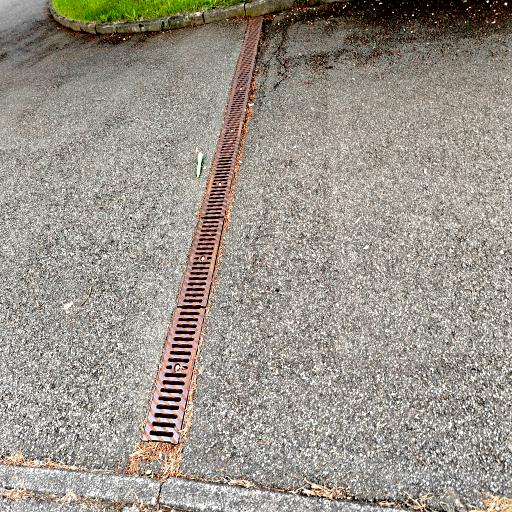Probe-Detection: (196, 152, 203, 178)
